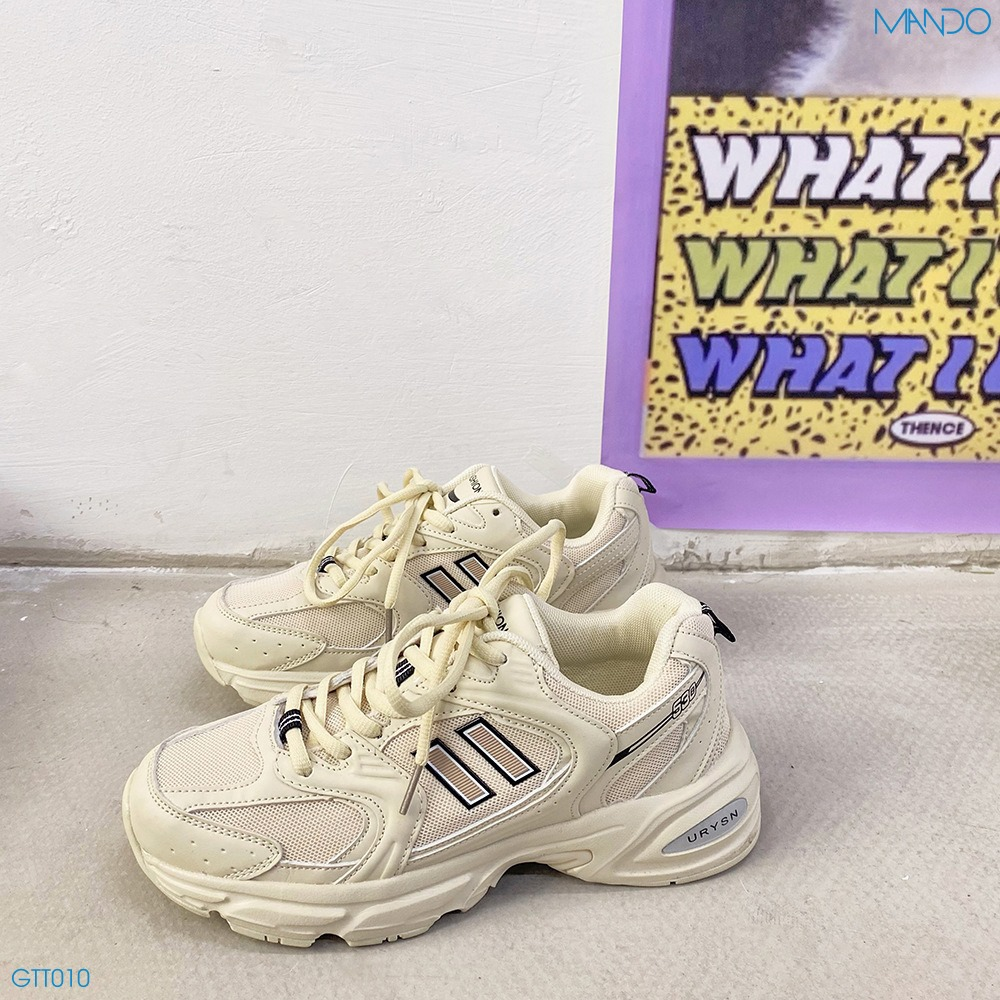shoe: (124, 460, 766, 947)
